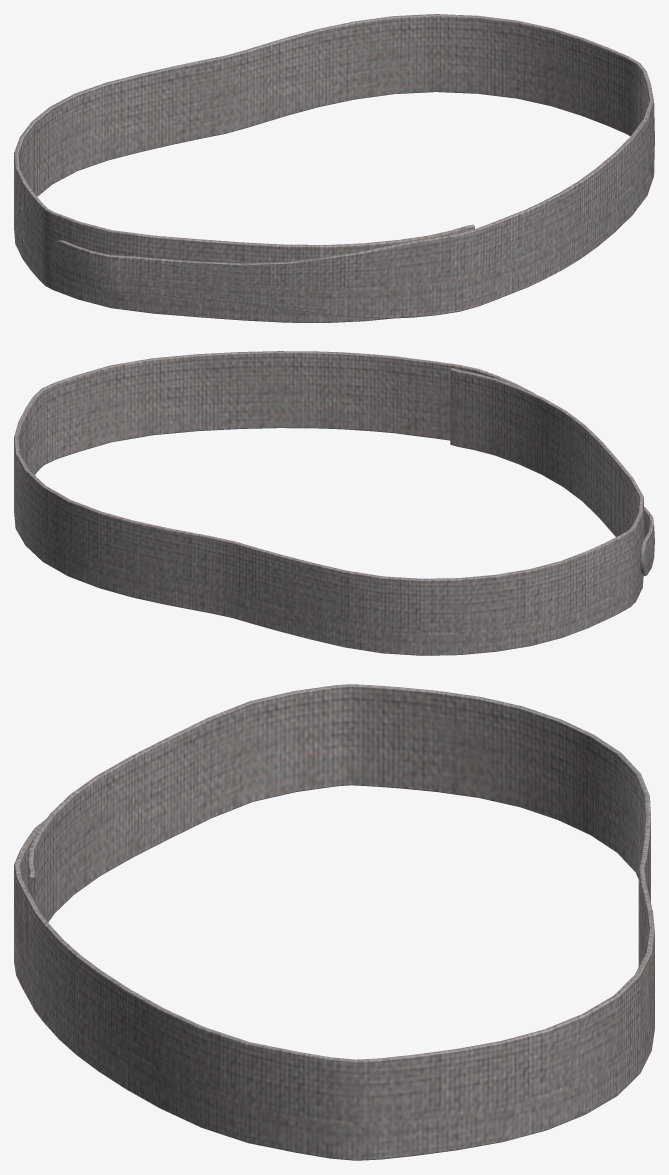
Rendered from Single_Side_Closure_5cm update.glb.
3 views of the same model, one above another, from view 1: azimuth 30°, elevation 25°; view 2: azimuth 150°, elevation 25°; view 3: azimuth 270°, elevation 25° (orthographic). The views are drawn at different scales.
Parts seen in each view (by area): view 1: Single_Side_Closure_5cm.001; view 2: Single_Side_Closure_5cm.001; view 3: Single_Side_Closure_5cm.001.
Part boxes in pixels (box(x1,y1,x2,y2)): Single_Side_Closure_5cm.001: box(14, 14, 654, 322); Single_Side_Closure_5cm.001: box(14, 351, 654, 655); Single_Side_Closure_5cm.001: box(14, 684, 654, 1160).
Bounding box in the file's own units: 0.0473 × 0.00577 × 0.0336.
Materials: 1 (1 with a texture image).
